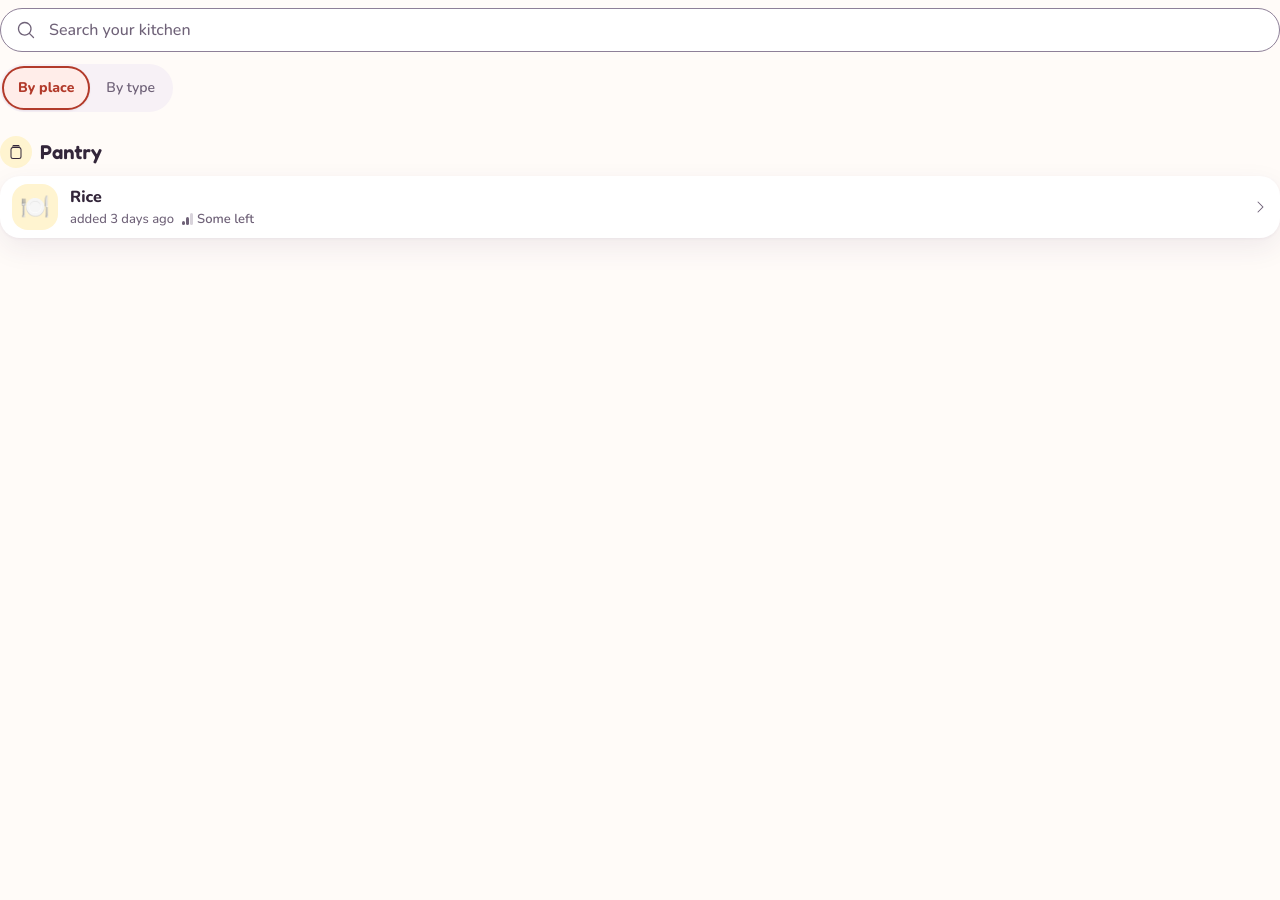
Test case: Setting a level in the edit sheet › offers Plenty · Some left · Running low · Out as toggle buttons, the current one pressed
Click the button with aria-label "Edit rice" at [86, 197], box x1=70 y1=186 x2=102 y2=208
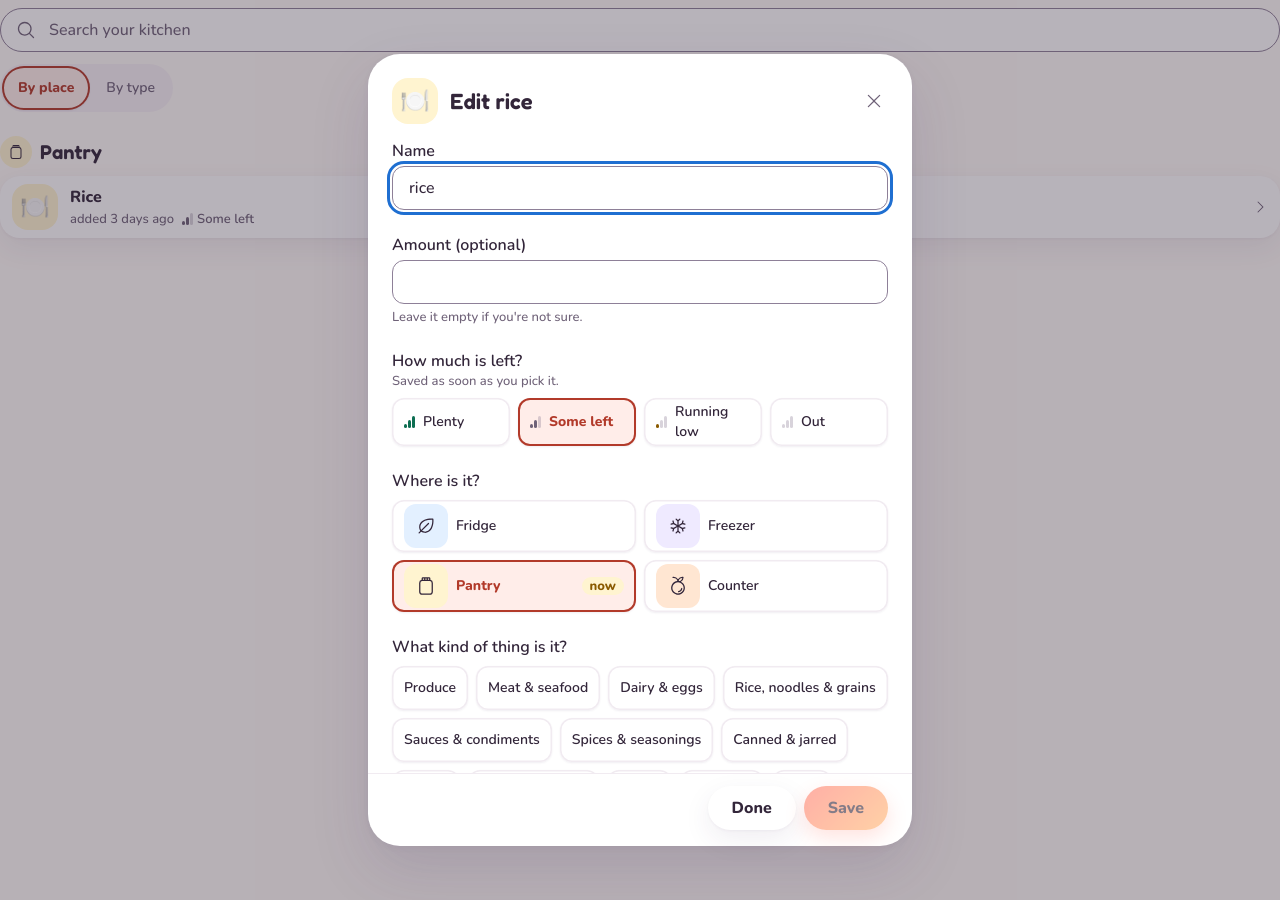
Expected: the buttons read "Plenty", "Some left", "Running low", "Out", in this order, x1=392 y1=398 x2=510 y2=446; x1=518 y1=398 x2=636 y2=446; x1=644 y1=398 x2=762 y2=446; x1=770 y1=398 x2=888 y2=446
